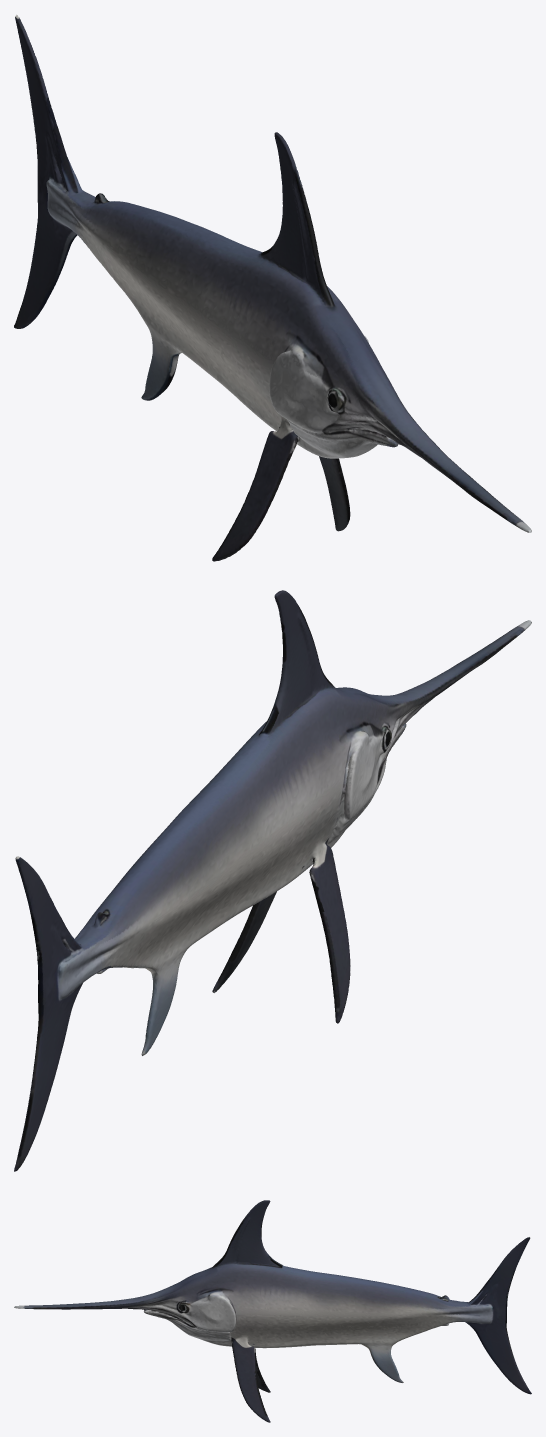
The model's file is Swordfish.fbx.
3 views of the same model, one above another, from view 1: azimuth 30°, elevation 25°; view 2: azimuth 150°, elevation 25°; view 3: azimuth 270°, elevation 25° (orthographic). The views are drawn at different scales.
Parts seen in each view (by area): view 1: tripo_node_054b6e66; view 2: tripo_node_054b6e66; view 3: tripo_node_054b6e66.
Boxes of the visible parts, x1,y1,x2,y2 form: tripo_node_054b6e66: [14, 14, 531, 561]; tripo_node_054b6e66: [14, 590, 531, 1171]; tripo_node_054b6e66: [14, 1200, 531, 1422].
Bounding box in the file's own units: 14.17 × 44.29 × 100.
1 material, 1 textured.
